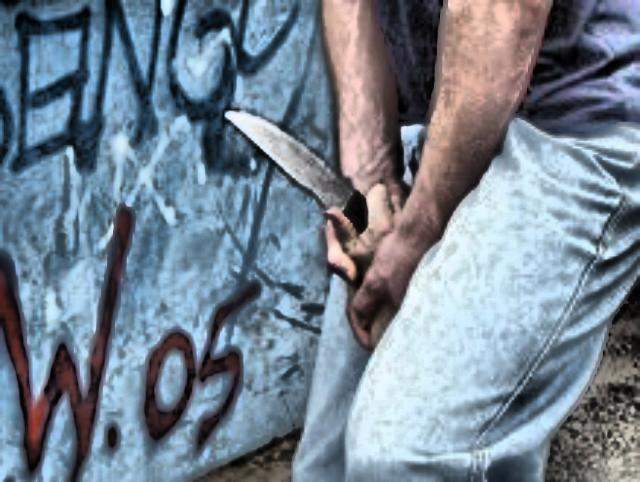knife: (202, 91, 392, 266)
